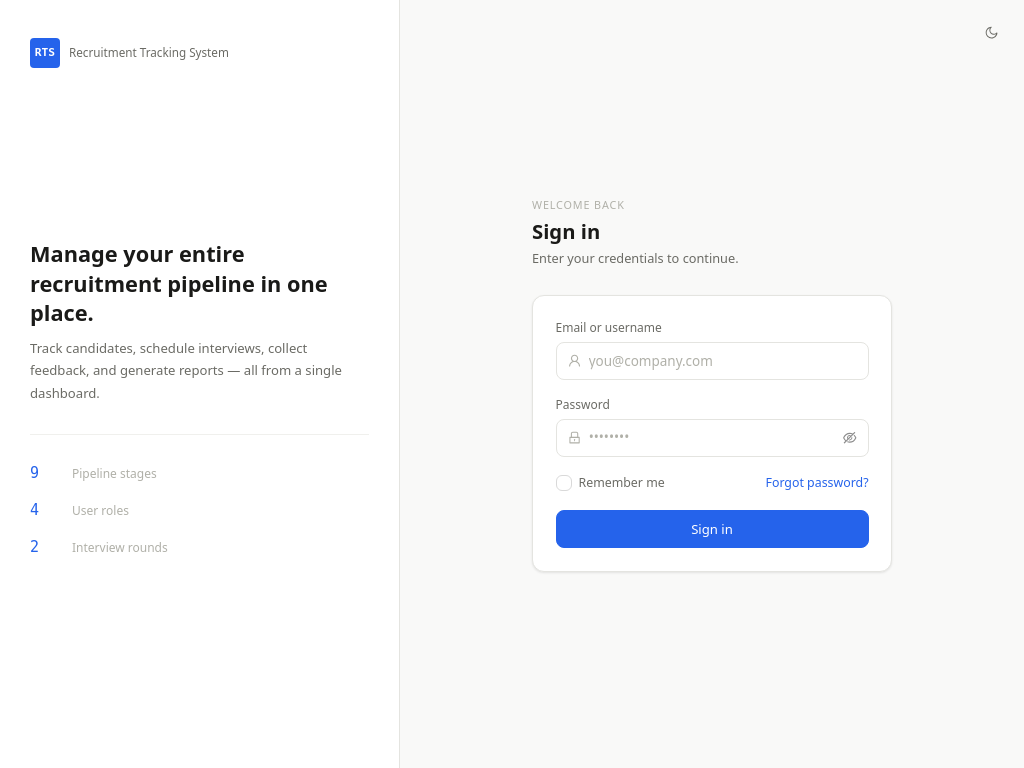
Scenario: LoginPage Tests › invalid login shows error
Type "wrong@rts.com" into the field with placeholder "you@company.com" at {"x": 723, "y": 361}, box [589,350,856,372]
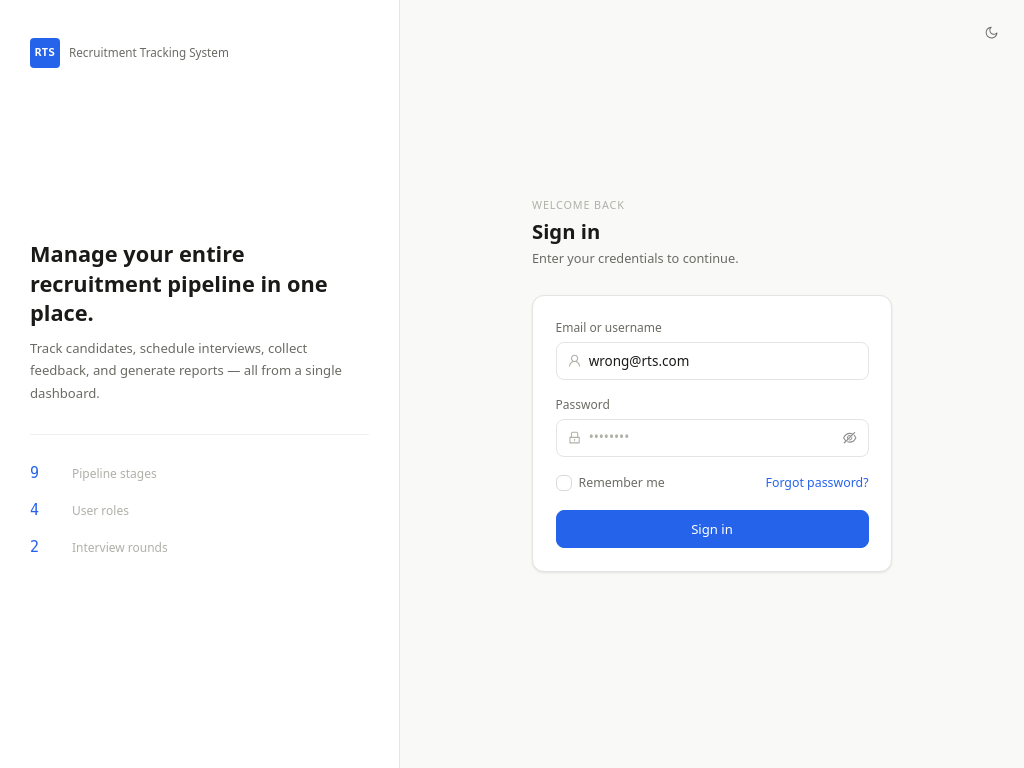
Type "wrongpass" into the password field with placeholder "••••••••" at {"x": 714, "y": 438}, box [589,426,839,448]
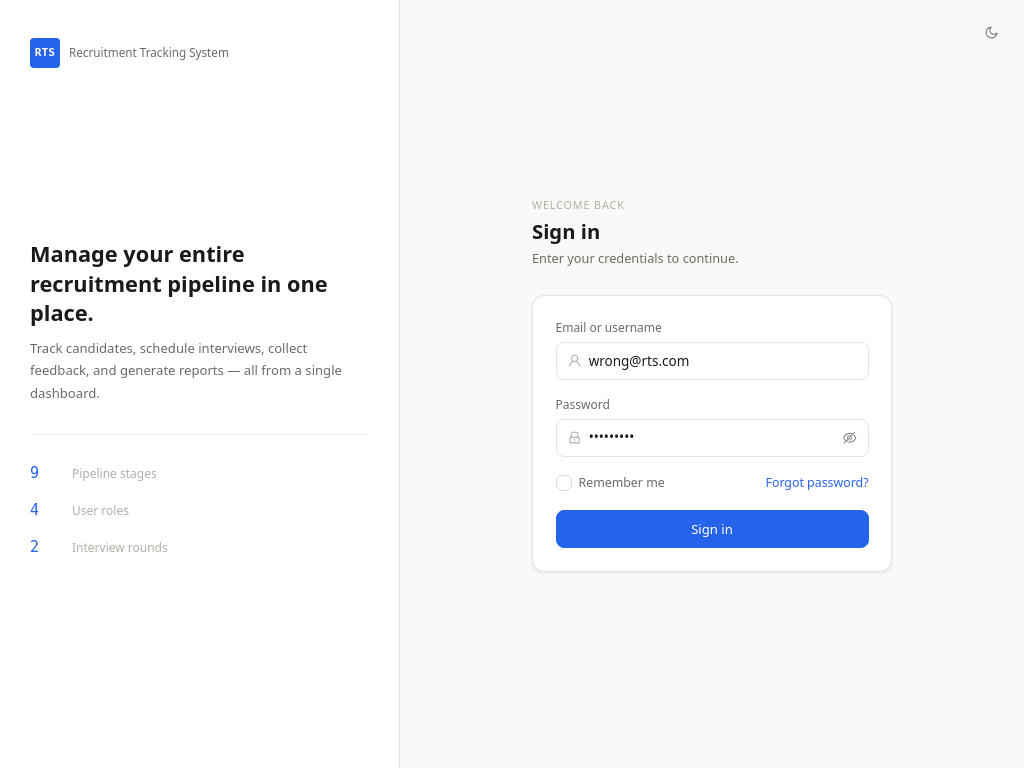
Click the button "Sign in" at {"x": 712, "y": 529}, box [556,510,868,548]
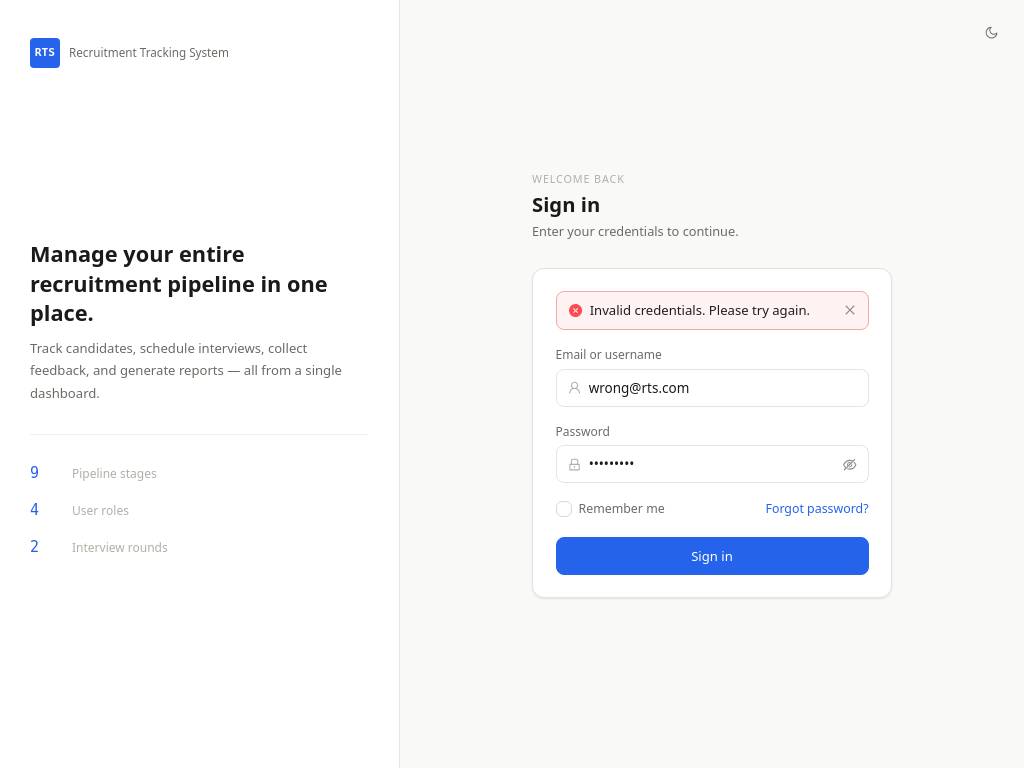
Expected: the text "Invalid credentials. Please try again." is shown, [590,300,836,321]
